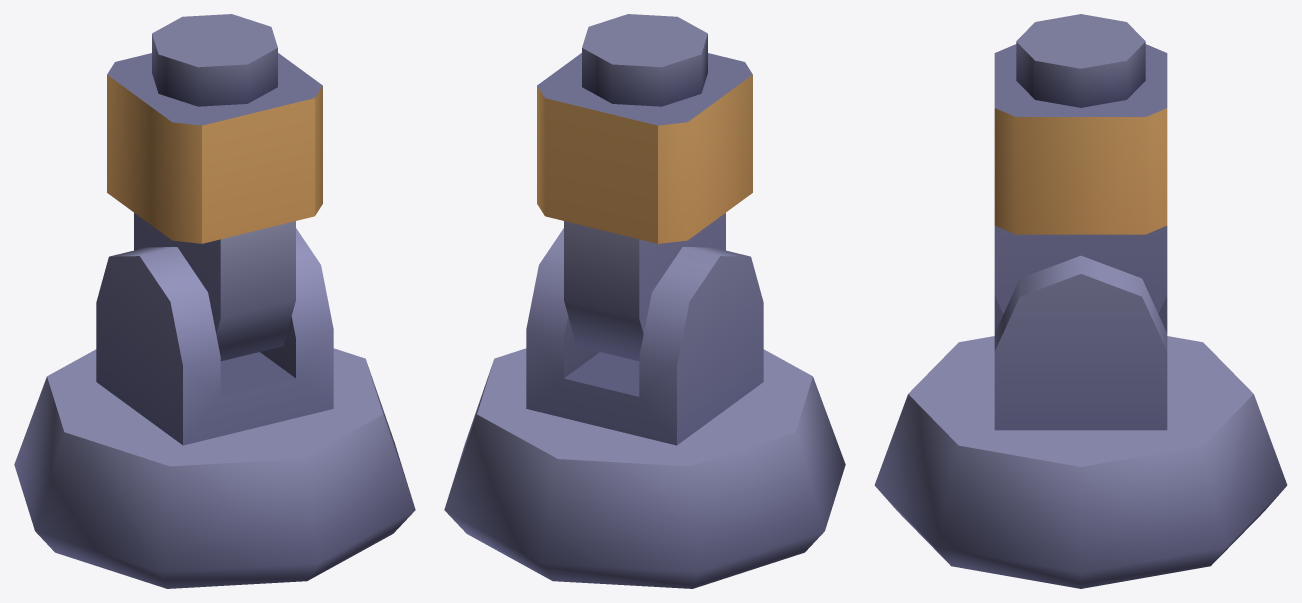
The model's file is kenney-factory-crane-magnet.glb.
3 views of the same model, side by side, from view 1: azimuth 30°, elevation 25°; view 2: azimuth 150°, elevation 25°; view 3: azimuth 270°, elevation 25° (orthographic).
Parts seen in each view (by area): view 1: crane-magnet; view 2: crane-magnet; view 3: crane-magnet.
Part boxes in pixels (x1,y1,x2,y2): crane-magnet: [14, 14, 415, 588]; crane-magnet: [444, 14, 845, 588]; crane-magnet: [874, 14, 1287, 588].
Bounding box in the file's own units: 1.07 × 1.35 × 1.07.
Materials: 1 (1 with a texture image).
